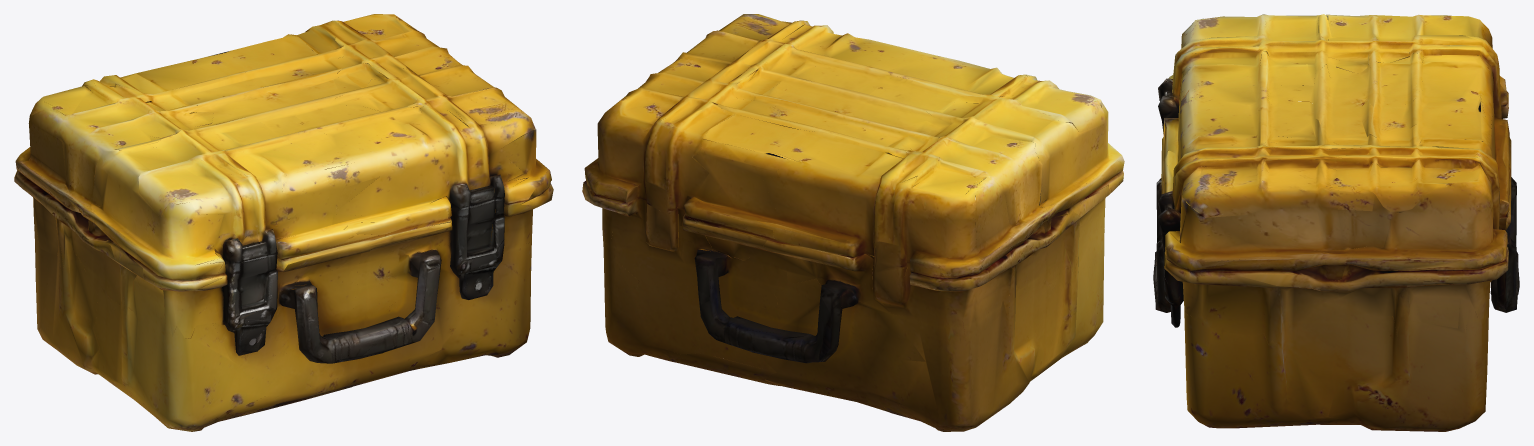
File: toolbox_case_LOD1.fbx
The picture shows the model from 3 angles, left to right: view 1: azimuth 30°, elevation 25°; view 2: azimuth 150°, elevation 25°; view 3: azimuth 270°, elevation 25°; orthographic projection.
Visible parts, largest first — view 1: toolbox_case.001; view 2: toolbox_case.001; view 3: toolbox_case.001.
Part boxes in pixels (x1,y1,x2,y2): toolbox_case.001: (14, 14, 553, 431); toolbox_case.001: (582, 14, 1124, 431); toolbox_case.001: (1153, 14, 1519, 431).
Bounding box in the file's own units: 0.5502 × 0.3321 × 0.4365.
Materials: 1 (1 with a texture image).
